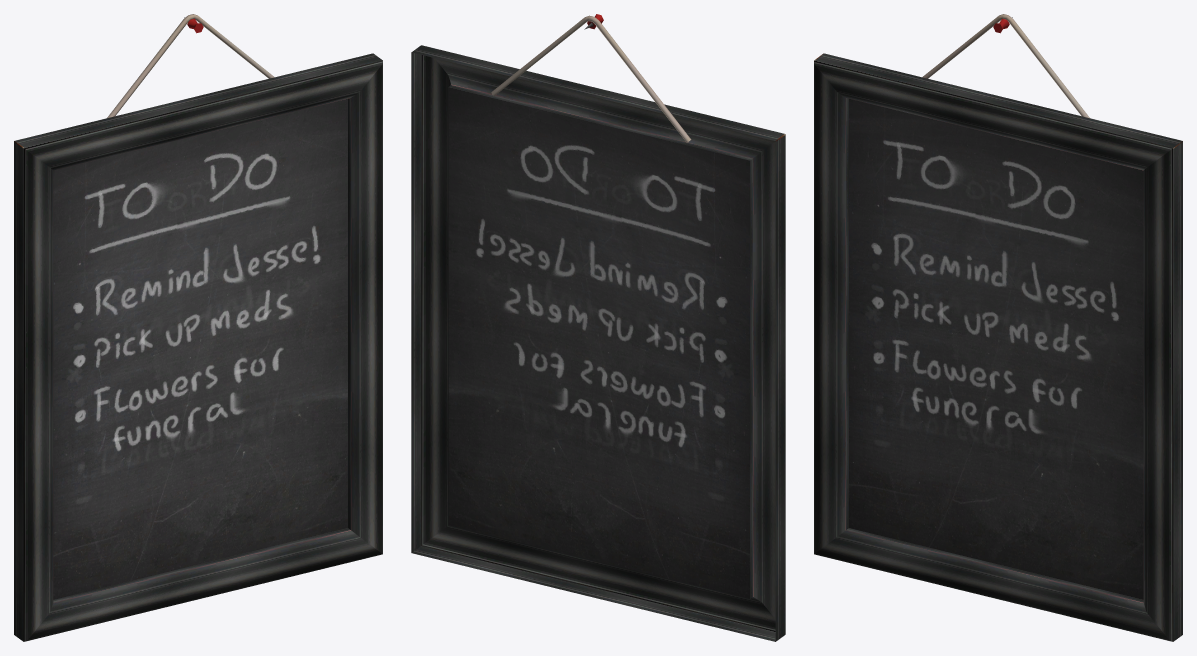
Rendered from chalkboard_todo.dae.
3 renders of one model, left to right at view 1: azimuth 30°, elevation 25°; view 2: azimuth 150°, elevation 25°; view 3: azimuth 330°, elevation 25°, orthographic.
Visible parts, largest first — view 1: chalkboard, frame; view 2: chalkboard, frame; view 3: chalkboard, frame.
Part boxes in pixels (x1,y1,x2,y2): chalkboard: [53, 98, 347, 599]; frame: [14, 14, 382, 641]; chalkboard: [448, 87, 749, 598]; frame: [411, 15, 785, 641]; chalkboard: [849, 98, 1143, 599]; frame: [814, 14, 1182, 641].
Bounding box in the file's own units: 0.4896 × 0.748 × 0.0496.
